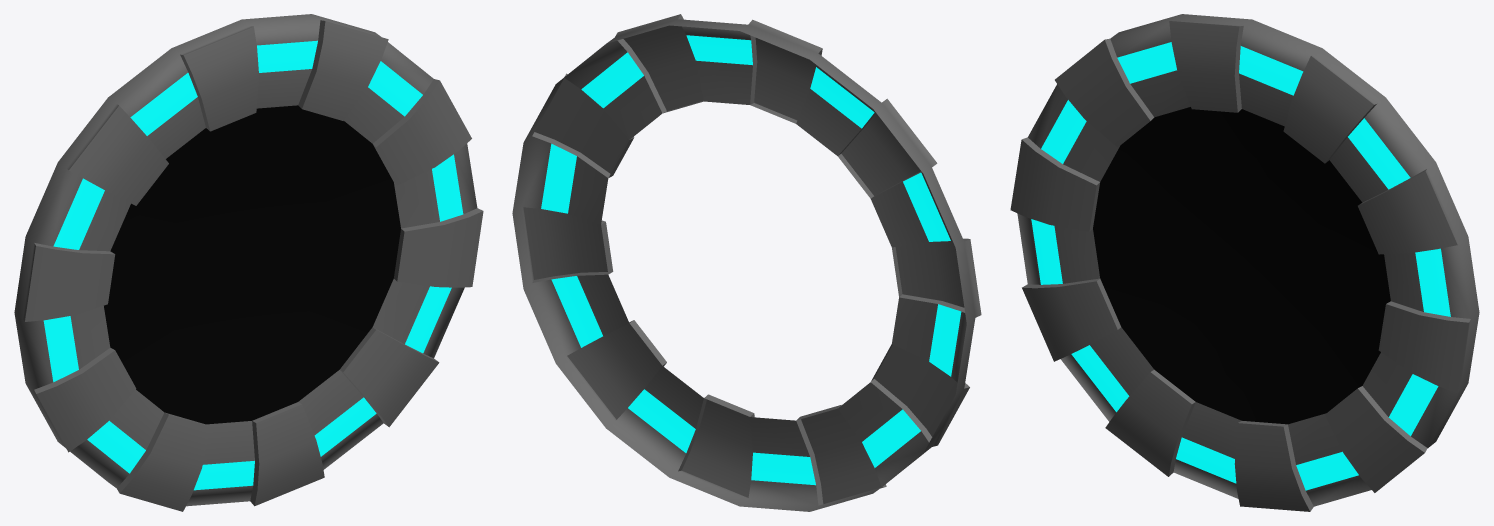
Rendered from AccelDiscInner.fbx.
3 renders of one model, left to right at view 1: azimuth 30°, elevation 25°; view 2: azimuth 150°, elevation 25°; view 3: azimuth 330°, elevation 25°, orthographic.
Parts seen in each view (by area): view 1: AccelDiscInner; view 2: AccelDiscInner; view 3: AccelDiscInner.
Part boxes in pixels (left/top/right/bottom): AccelDiscInner: left=14, top=14, right=483, bottom=511; AccelDiscInner: left=512, top=14, right=981, bottom=511; AccelDiscInner: left=1010, top=14, right=1479, bottom=511.
Bounding box in the file's own units: 282 × 282 × 18.73.
